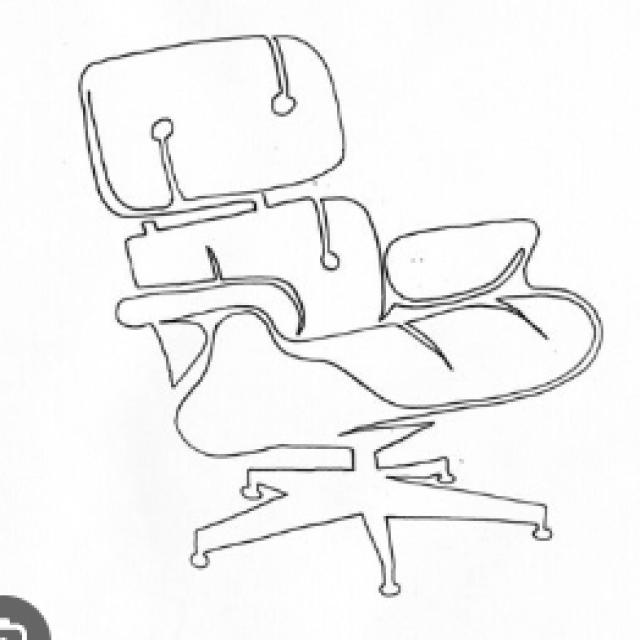Backrest: (116, 190, 391, 338)
Eames_base: (185, 451, 568, 604)
Eames_lounge: (380, 213, 546, 323), (112, 273, 308, 346)
Headrest: (71, 26, 352, 223)
Seat: (172, 287, 610, 459)
